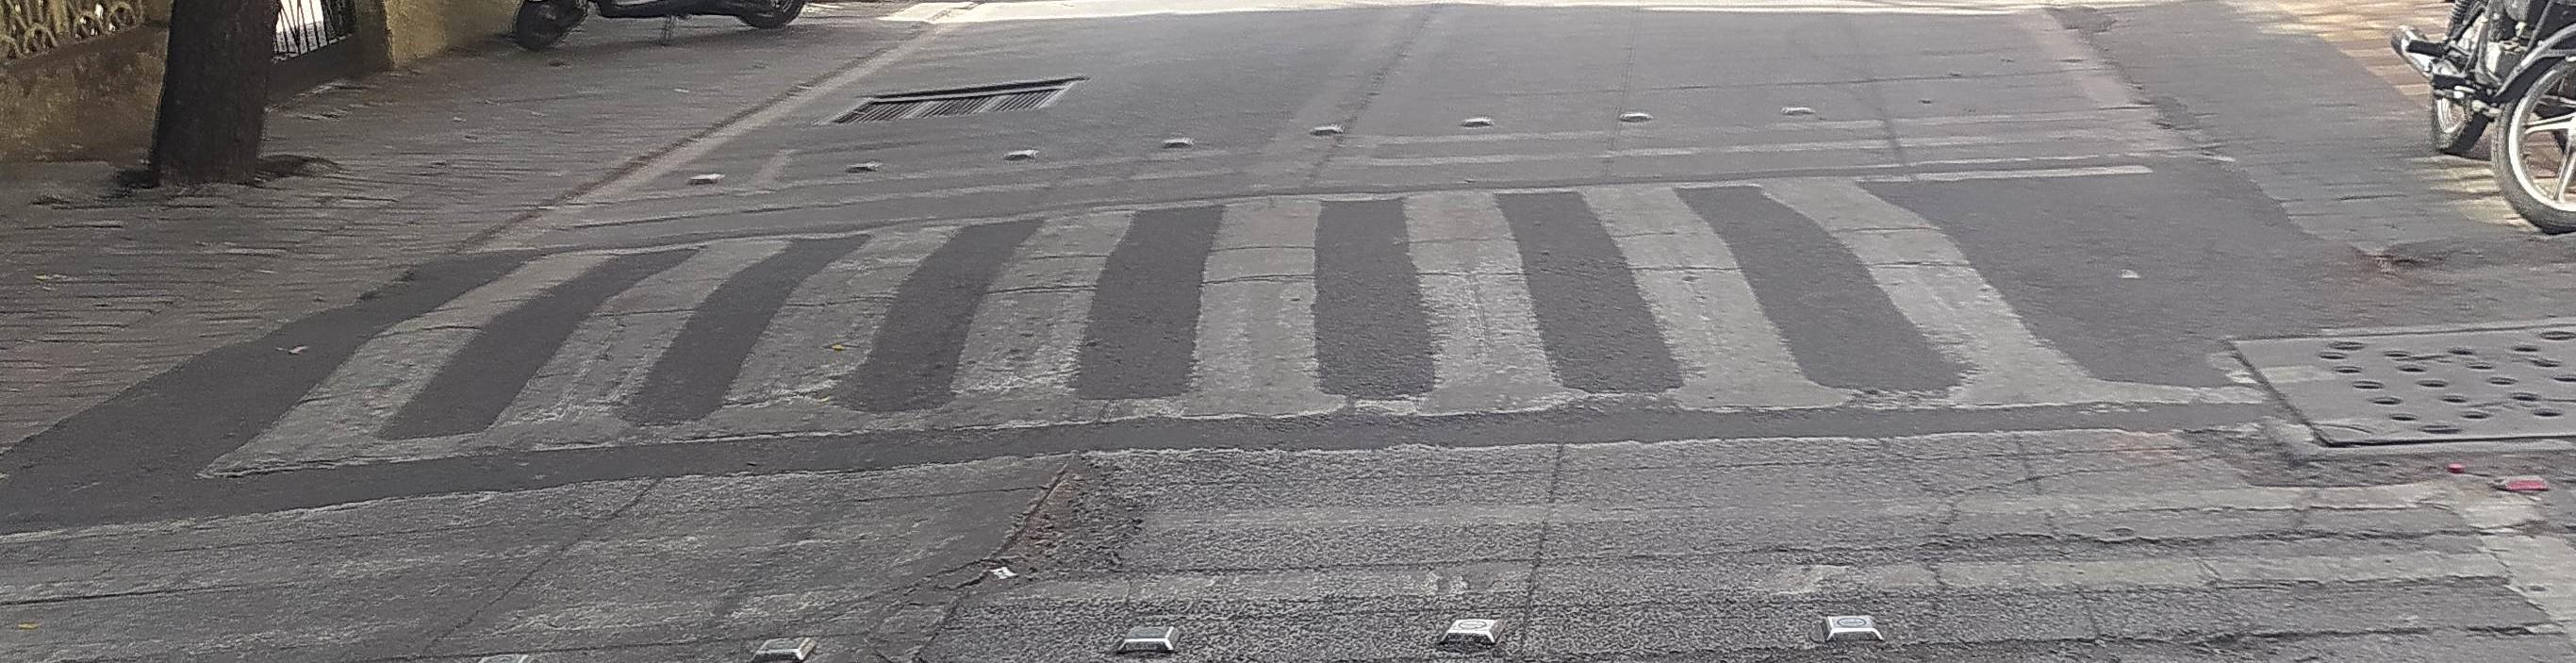speed-bump: (21, 146, 2387, 528)
